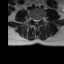CCS_normal: (36, 17, 37, 26)
LFS_normal: (39, 15, 41, 22)
LLS_normal: (37, 17, 39, 24)
RFS_stenosis: (32, 15, 34, 22)
RLS_normal: (34, 16, 36, 24)
